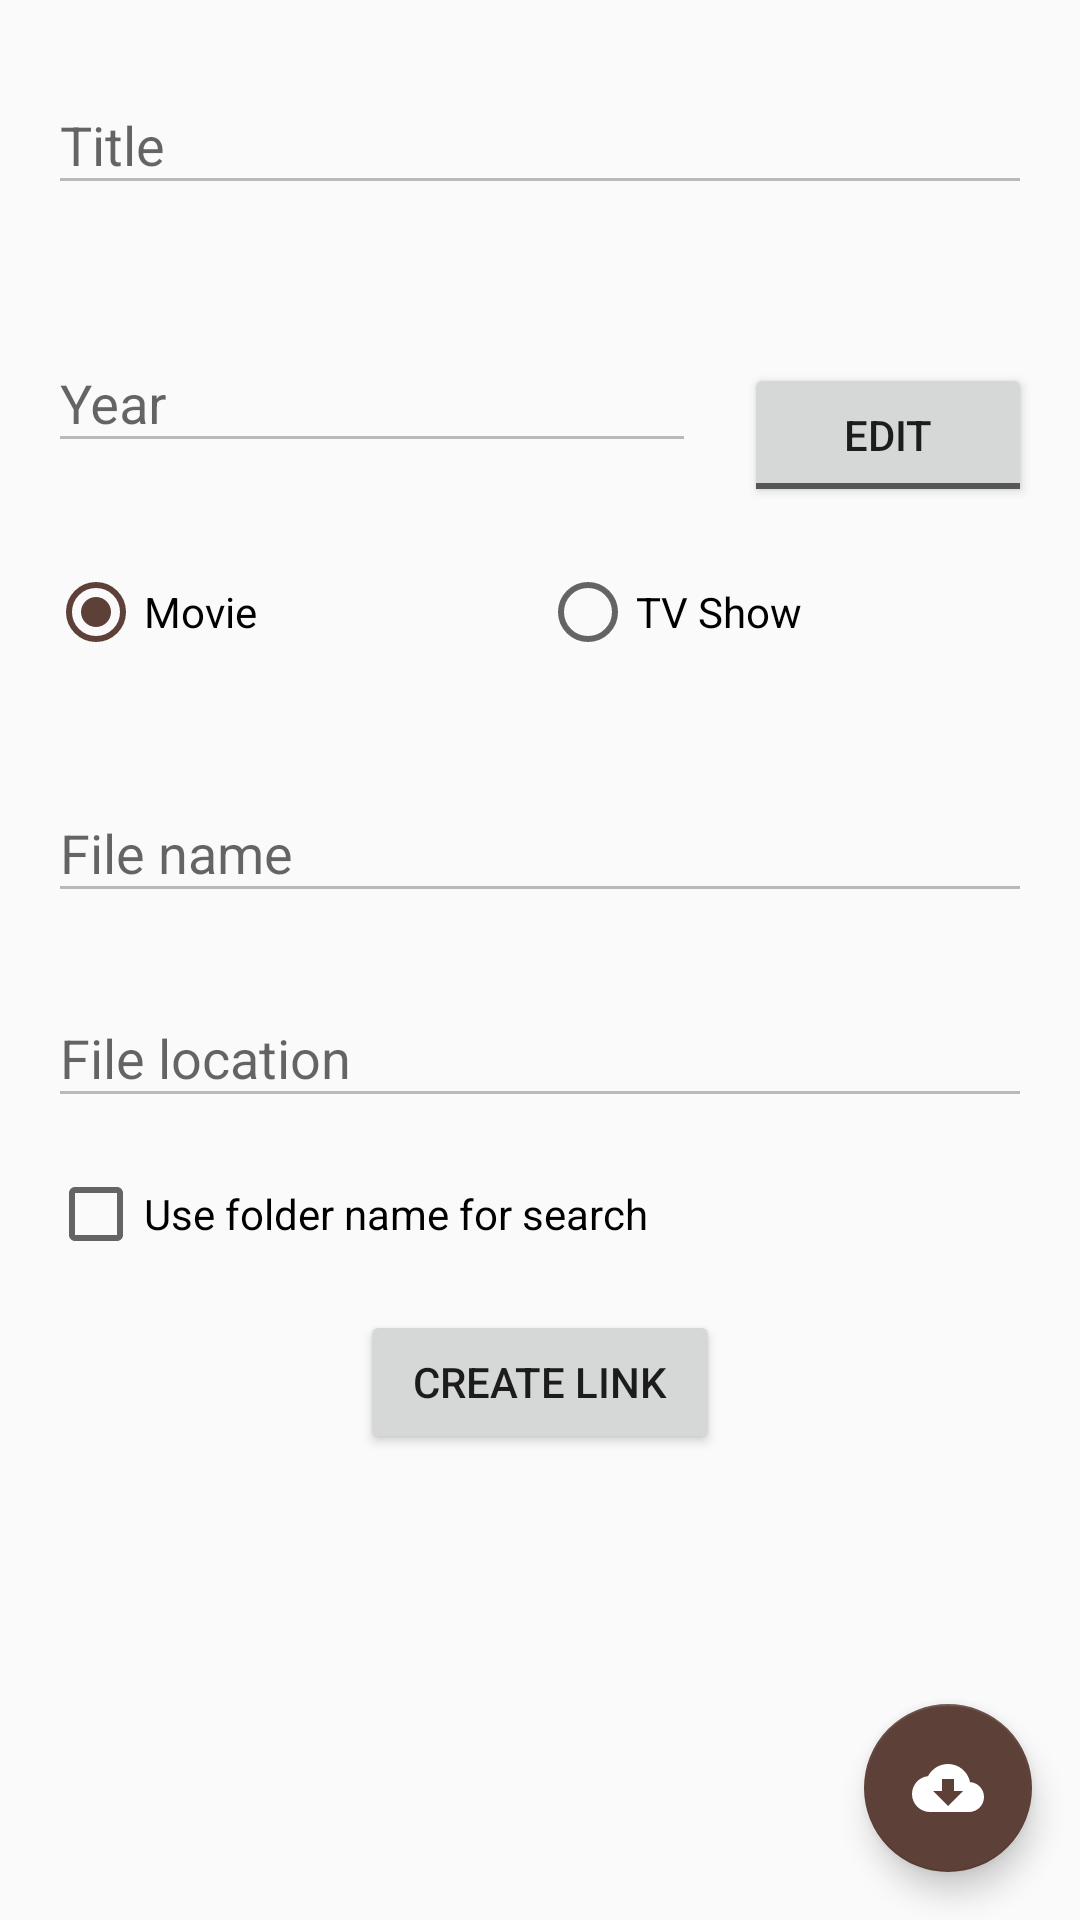

Icons on this 1080x1920 Android screen, each with the point to tap as [x,y]:
cloud download: [948,1788]
